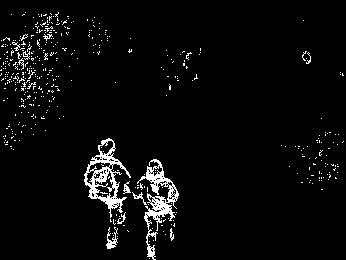person: (83, 137, 130, 249), (133, 154, 178, 259)
